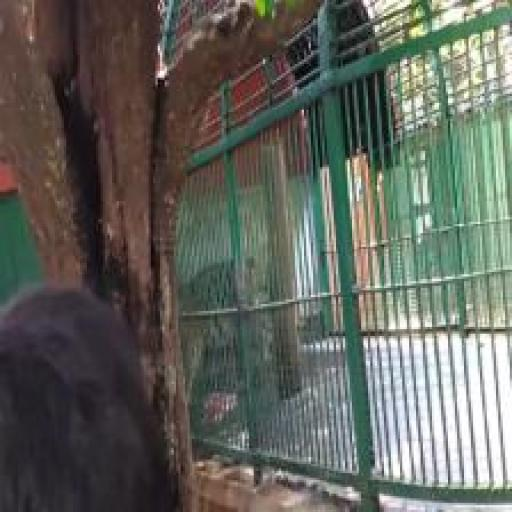Tiger: (176, 244, 286, 398)
